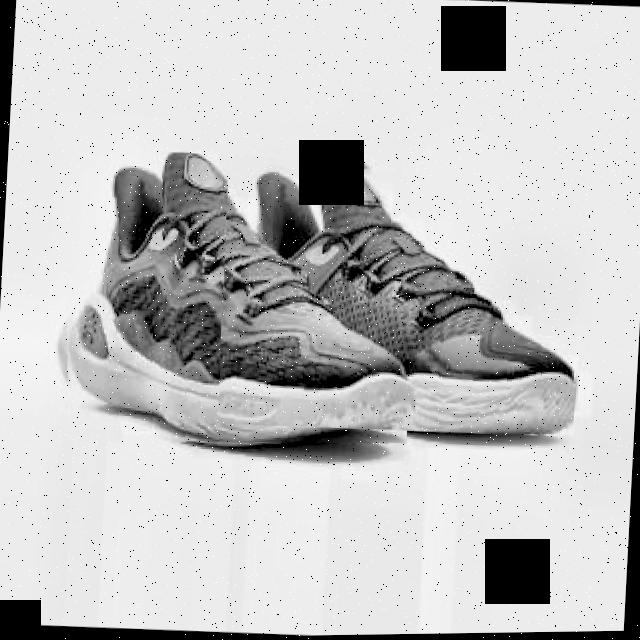shoe: (52, 145, 421, 459), (216, 156, 586, 442)
